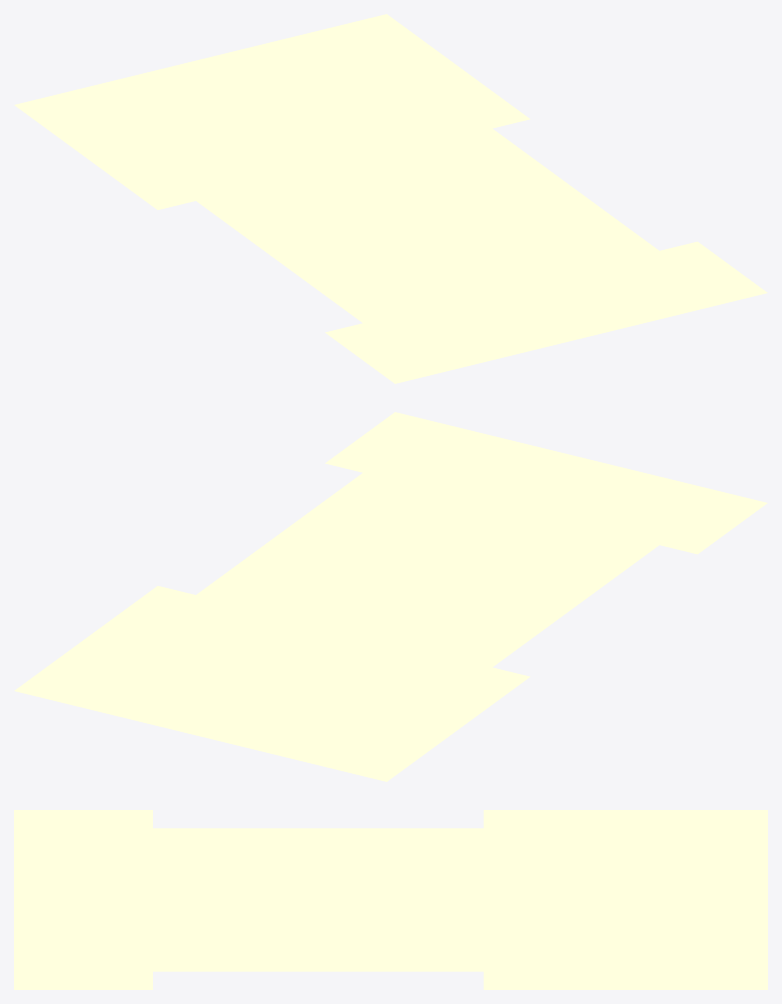
Rendered from CB 13.45 sleeve.fbx.
The picture shows the model from 3 angles, top to bottom: view 1: azimuth 30°, elevation 25°; view 2: azimuth 150°, elevation 25°; view 3: azimuth 270°, elevation 25°; orthographic projection.
Visible parts, largest first — view 1: CB 13.45 sleeve; view 2: CB 13.45 sleeve; view 3: CB 13.45 sleeve.
Boxes of the visible parts, x1,y1,x2,y2 form: CB 13.45 sleeve: (14, 14, 767, 383); CB 13.45 sleeve: (14, 412, 767, 781); CB 13.45 sleeve: (14, 810, 767, 989).
Bounding box in the file's own units: 1.63e-09 × 0.0134 × 0.0238.
